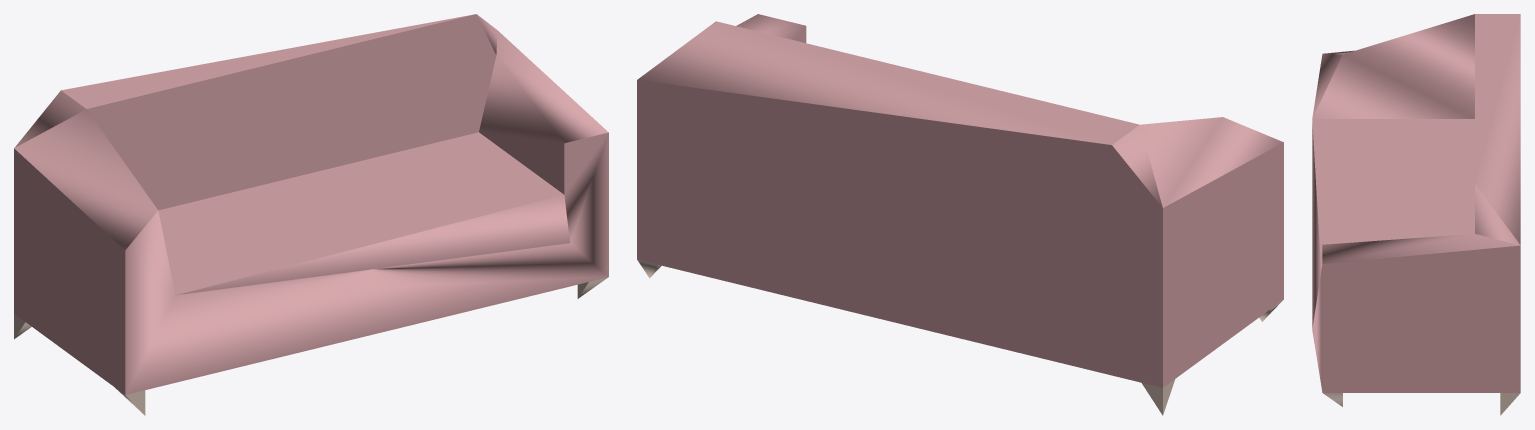
The model's file is loungeSofa.glb.
3 views of the same model, side by side, from view 1: azimuth 30°, elevation 25°; view 2: azimuth 150°, elevation 25°; view 3: azimuth 270°, elevation 25° (orthographic). The views are drawn at different scales.
Visible parts, largest first — view 1: loungeSofa(Clone); view 2: loungeSofa(Clone); view 3: loungeSofa(Clone).
Boxes of the visible parts, <box> form: loungeSofa(Clone): <box>14,14,608,415</box>; loungeSofa(Clone): <box>637,14,1283,415</box>; loungeSofa(Clone): <box>1312,14,1520,415</box>.
Bounding box in the file's own units: 0.98 × 0.4603 × 0.4104.
